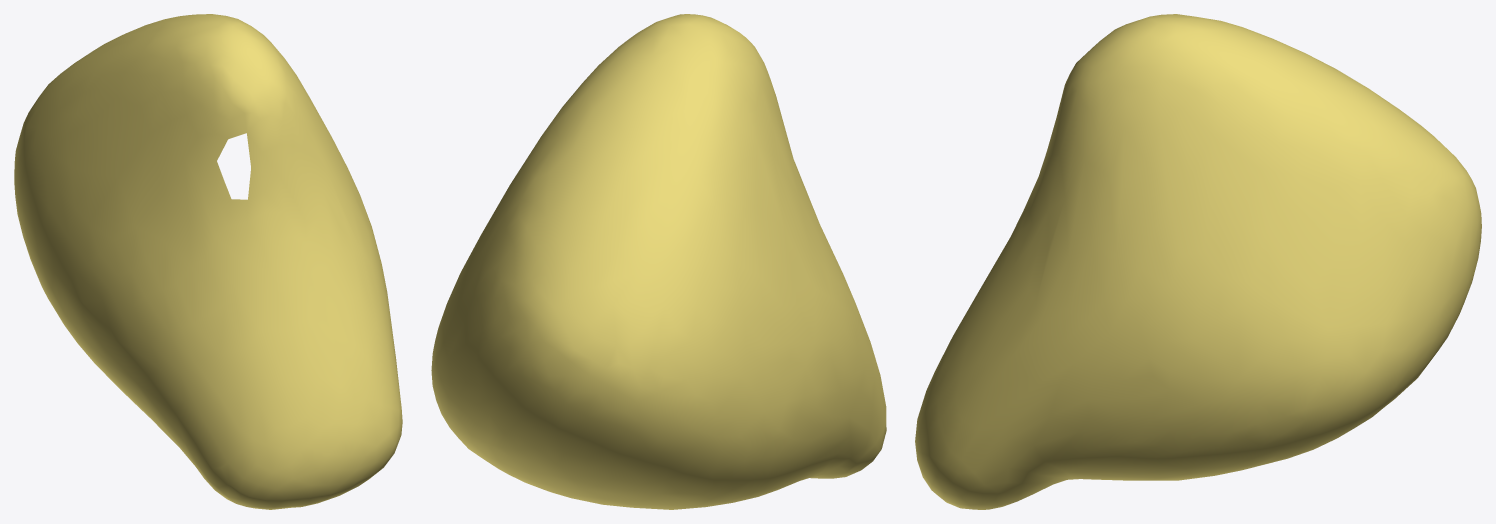
Rendered from declive.glb.
The picture shows the model from 3 angles, left to right: view 1: azimuth 30°, elevation 25°; view 2: azimuth 150°, elevation 25°; view 3: azimuth 270°, elevation 25°; orthographic projection. The views are drawn at different scales.
Parts seen in each view (by area): view 1: Declive; view 2: Declive; view 3: Declive.
Boxes of the visible parts, x1,y1,x2,y2 form: Declive: [14, 14, 402, 509]; Declive: [431, 14, 886, 509]; Declive: [915, 14, 1481, 509].
Size of the model in its own units: 0.0121 by 0.0176 by 0.0191.
